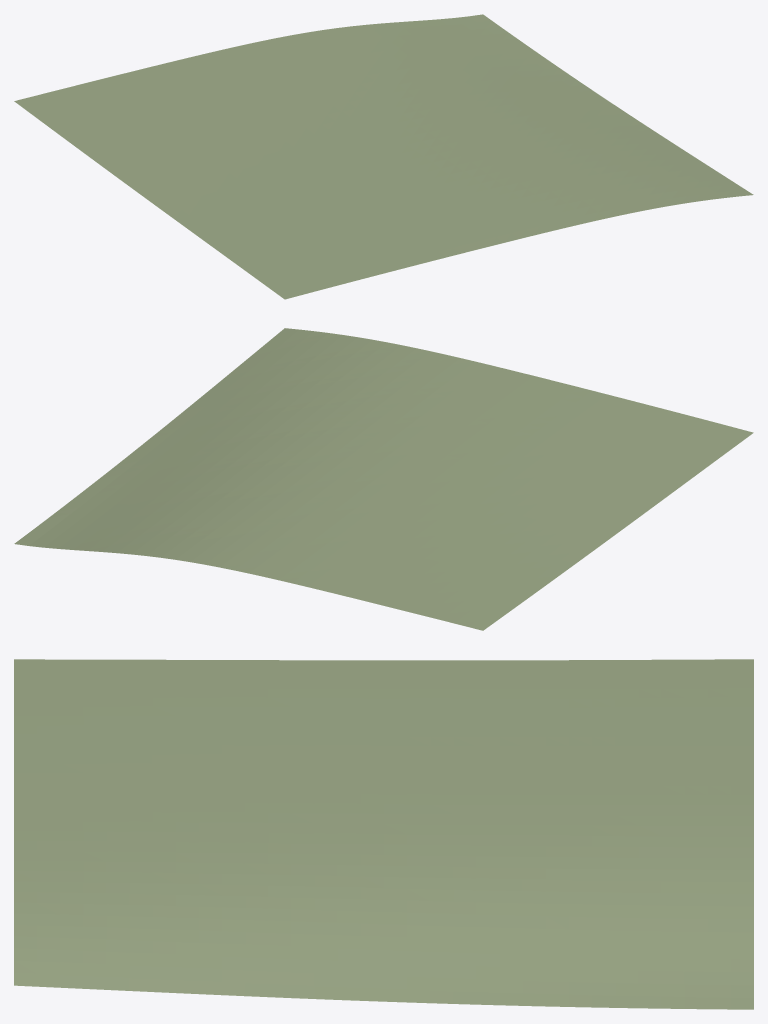
Rendered from desert-10-15.glb.
3 renders of one model, top to bottom at view 1: azimuth 30°, elevation 25°; view 2: azimuth 150°, elevation 25°; view 3: azimuth 270°, elevation 25°, orthographic. The views are drawn at different scales.
Visible parts, largest first — view 1: desert-10-15; view 2: desert-10-15; view 3: desert-10-15.
Part boxes in pixels (box(x1,y1,x2,y2)): desert-10-15: box(14, 14, 753, 299); desert-10-15: box(14, 328, 753, 630); desert-10-15: box(14, 659, 753, 1009).
Bounding box in the file's own units: 512 × 32.1 × 512.
